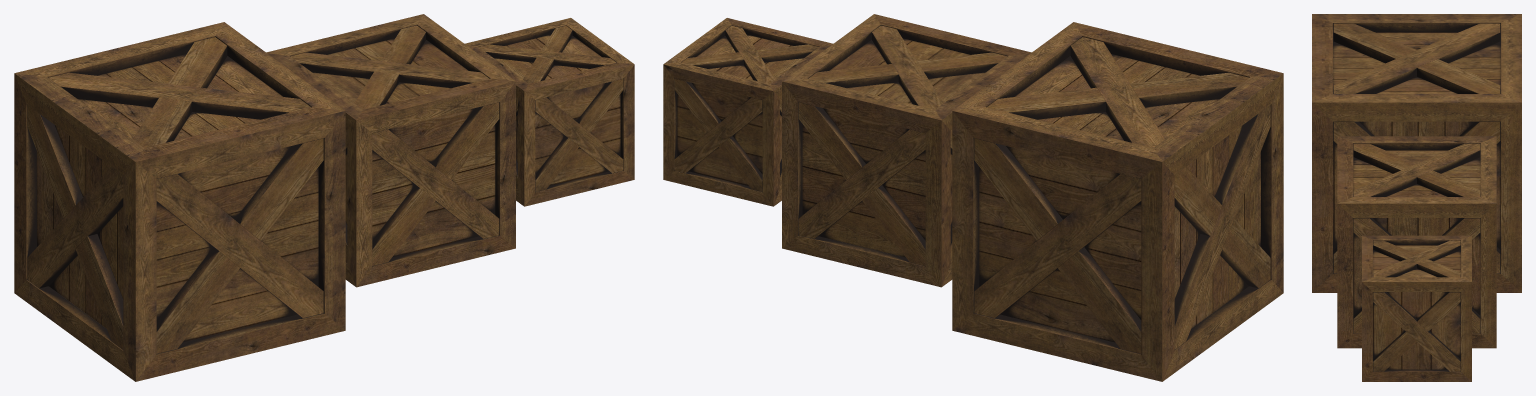
The model's file is wooden_boxes.glb.
3 views of the same model, side by side, from view 1: azimuth 30°, elevation 25°; view 2: azimuth 150°, elevation 25°; view 3: azimuth 270°, elevation 25° (orthographic). The views are drawn at different scales.
Parts seen in each view (by area): view 1: Object_2, Object_3, Object_4; view 2: Object_2, Object_3, Object_4; view 3: Object_2, Object_3, Object_4.
Boxes of the visible parts, left/top/right/bottom form: Object_2: left=14, top=22, right=345, bottom=381; Object_3: left=266, top=14, right=515, bottom=287; Object_4: left=465, top=18, right=634, bottom=206; Object_2: left=952, top=22, right=1283, bottom=381; Object_3: left=782, top=14, right=1031, bottom=287; Object_4: left=663, top=18, right=832, bottom=206; Object_2: left=1312, top=14, right=1521, bottom=292; Object_3: left=1337, top=136, right=1496, bottom=348; Object_4: left=1362, top=235, right=1471, bottom=381.
Size of the model in its own units: 5.02 by 2 by 2.
3 materials, 3 textured.
